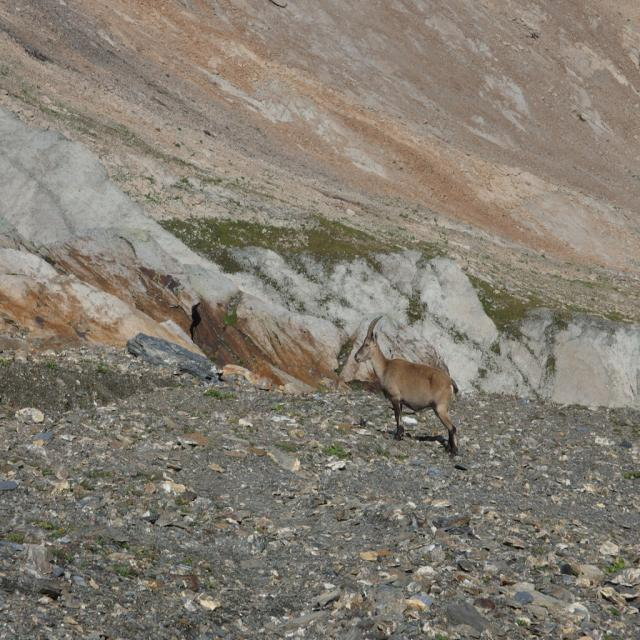Goat: (354, 316, 461, 462)
